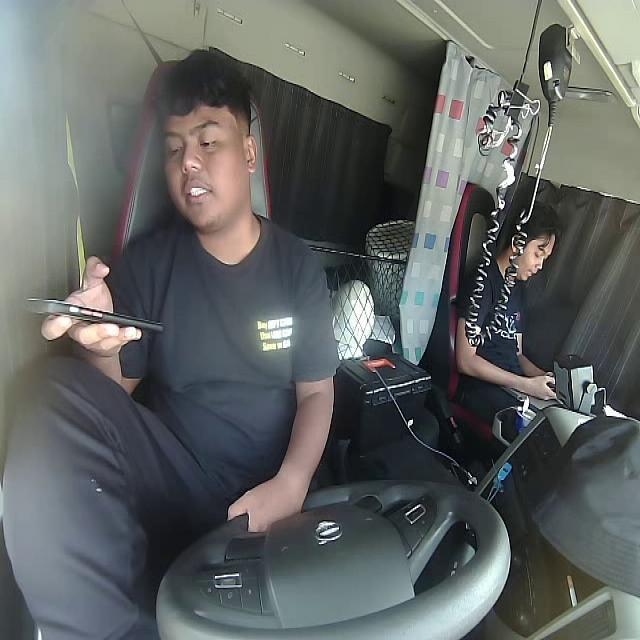phone: (26, 294, 169, 338)
